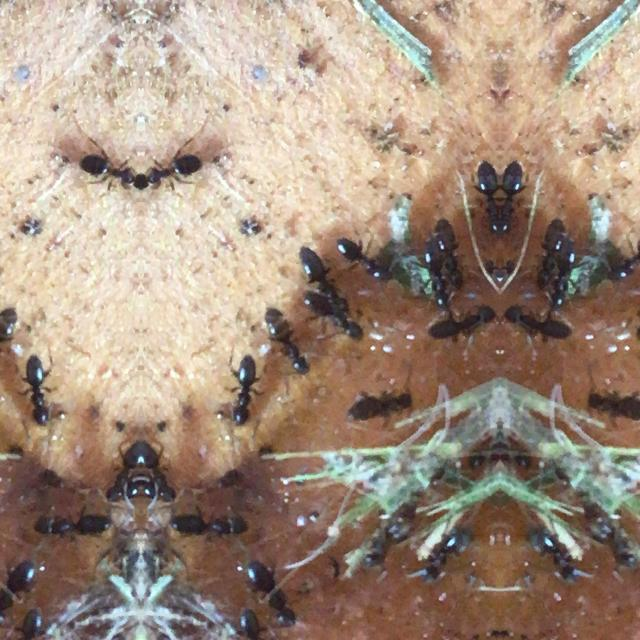Tapinoma: (240, 544, 300, 634), (140, 131, 204, 211), (76, 131, 140, 211), (298, 288, 377, 352), (259, 298, 313, 388), (344, 372, 416, 438), (358, 497, 416, 575), (582, 497, 640, 575), (411, 522, 474, 590), (526, 522, 588, 590), (164, 500, 252, 546), (28, 500, 116, 546), (293, 239, 345, 315), (332, 222, 390, 290), (582, 372, 640, 436), (222, 346, 262, 438), (18, 346, 58, 438), (422, 302, 498, 350), (501, 302, 577, 350), (0, 544, 40, 634), (140, 438, 182, 518), (99, 438, 140, 518), (469, 150, 499, 250), (500, 150, 530, 250), (418, 234, 452, 322), (547, 234, 581, 322), (532, 214, 570, 284), (429, 214, 466, 284), (608, 220, 640, 290), (210, 607, 270, 639), (10, 607, 70, 639), (0, 298, 20, 388), (622, 288, 640, 350)
